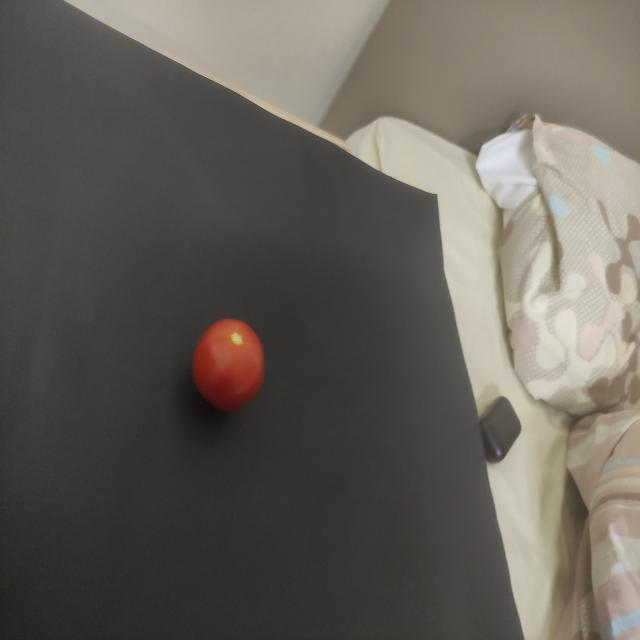kirmizi: (186, 304, 280, 435)
